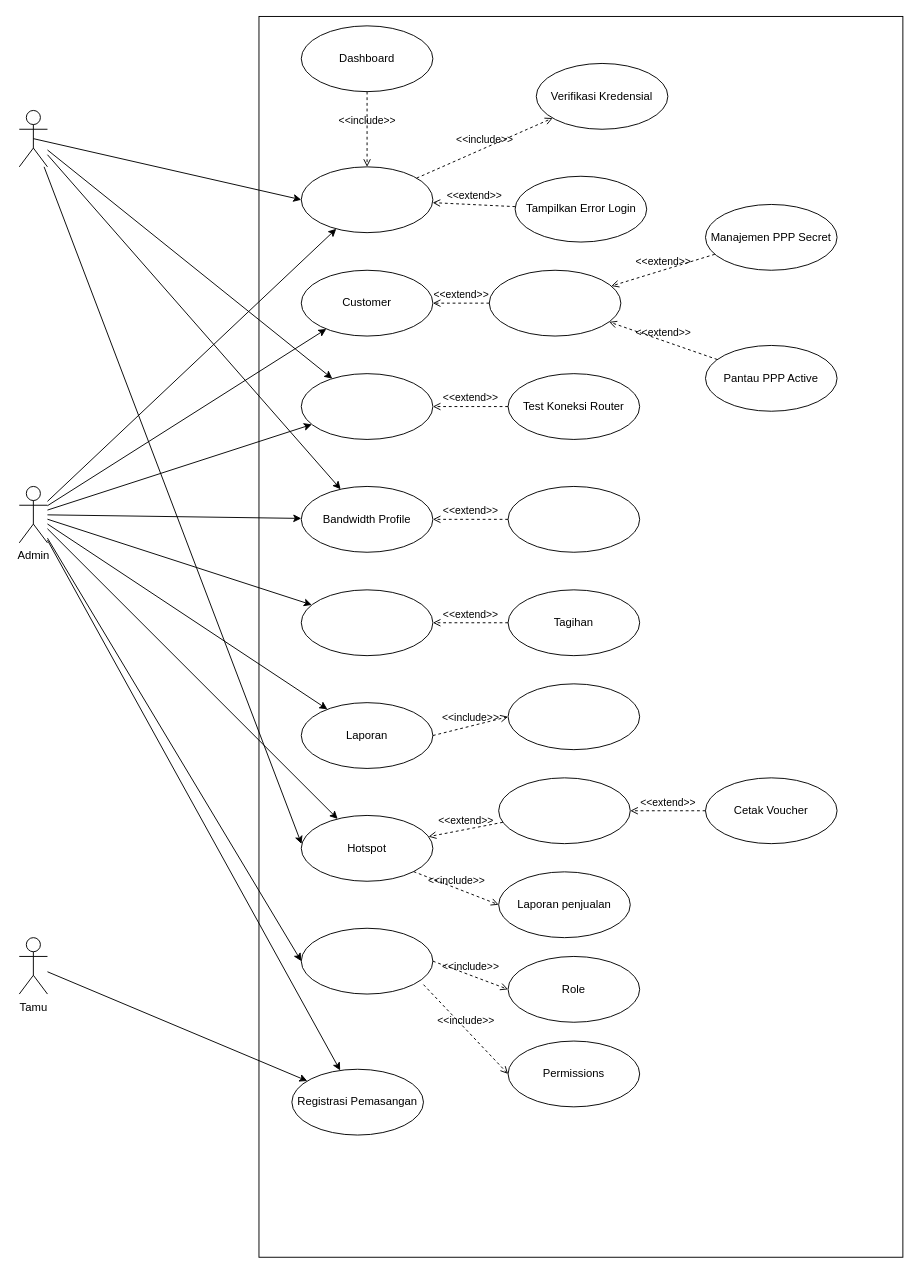
The diagram is 919 pixels wide and 1274 high, and some of its shapes have lost their labels. The shapes that lost their labels are listed below. From the top down, each one's centre as x and y in pixels, then its label:
[32,138]: Teknisi
[366,199]: Login
[554,302]: Kelola Layanan PPP
[366,406]: Router
[573,519]: Sinkronisasi Profil MikroTik
[366,622]: Billing
[573,716]: Export
[564,810]: Generate Voucher
[366,960]: Users
